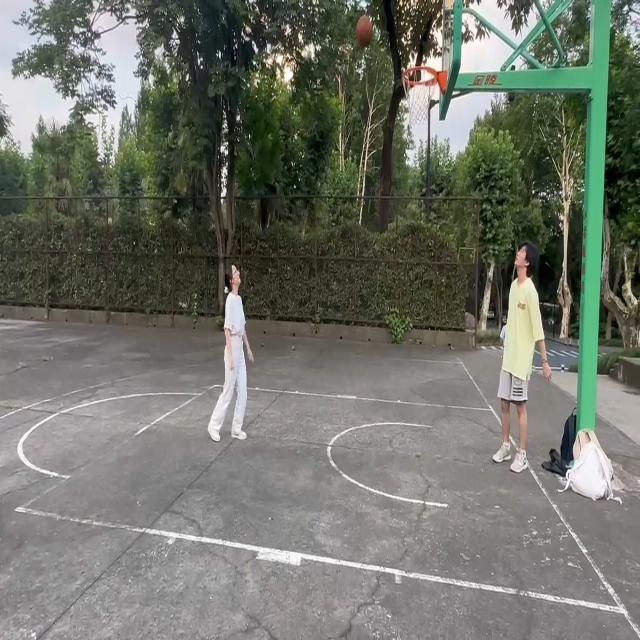basketball: (400, 60, 445, 132)
rim: (355, 14, 374, 50)
